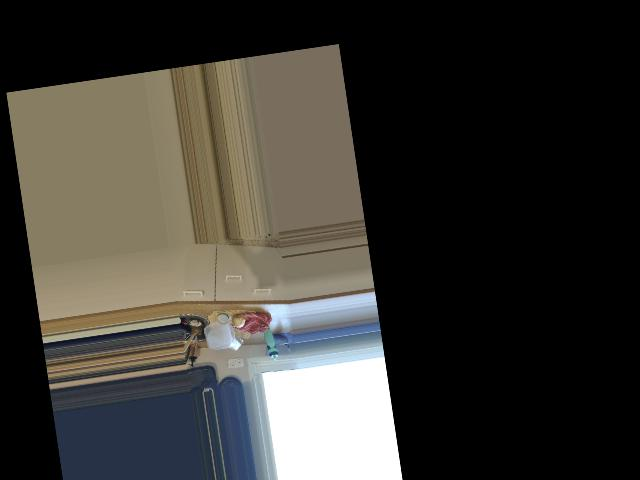onion: (231, 309, 250, 329)
